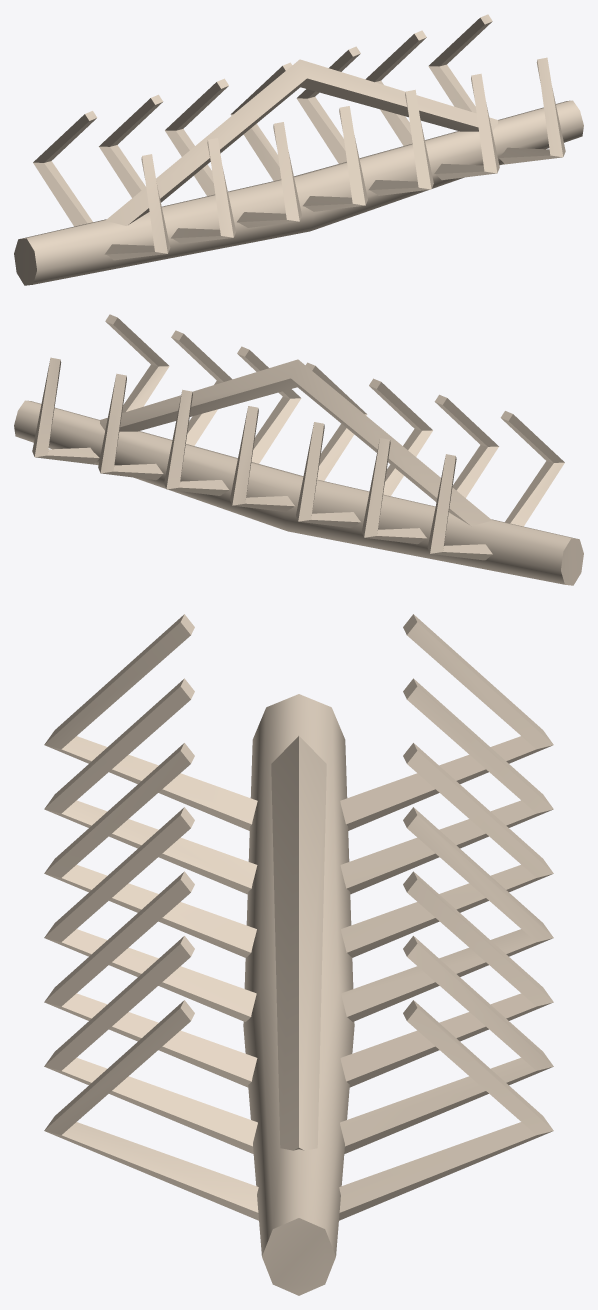
File: heath_grouse_carcass.glb
The picture shows the model from 3 angles, top to bottom: view 1: azimuth 30°, elevation 25°; view 2: azimuth 150°, elevation 25°; view 3: azimuth 270°, elevation 25°; orthographic projection. The views are drawn at different scales.
Visible parts, largest first — view 1: heath_grouse_carcass; view 2: heath_grouse_carcass; view 3: heath_grouse_carcass.
Boxes of the visible parts, x1,y1,x2,y2 form: heath_grouse_carcass: (14, 14, 583, 285); heath_grouse_carcass: (14, 314, 583, 585); heath_grouse_carcass: (44, 614, 553, 1295).
Size of the model in its own units: 0.1 by 0.03 by 0.04.
